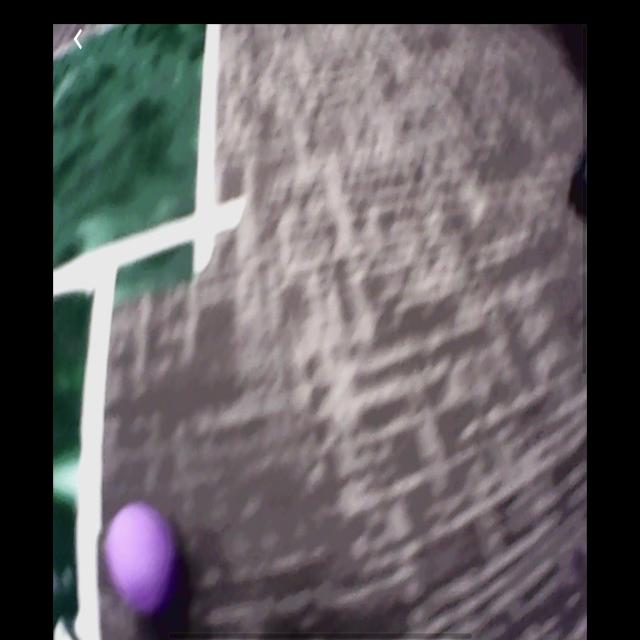ball: (108, 498, 175, 616)
